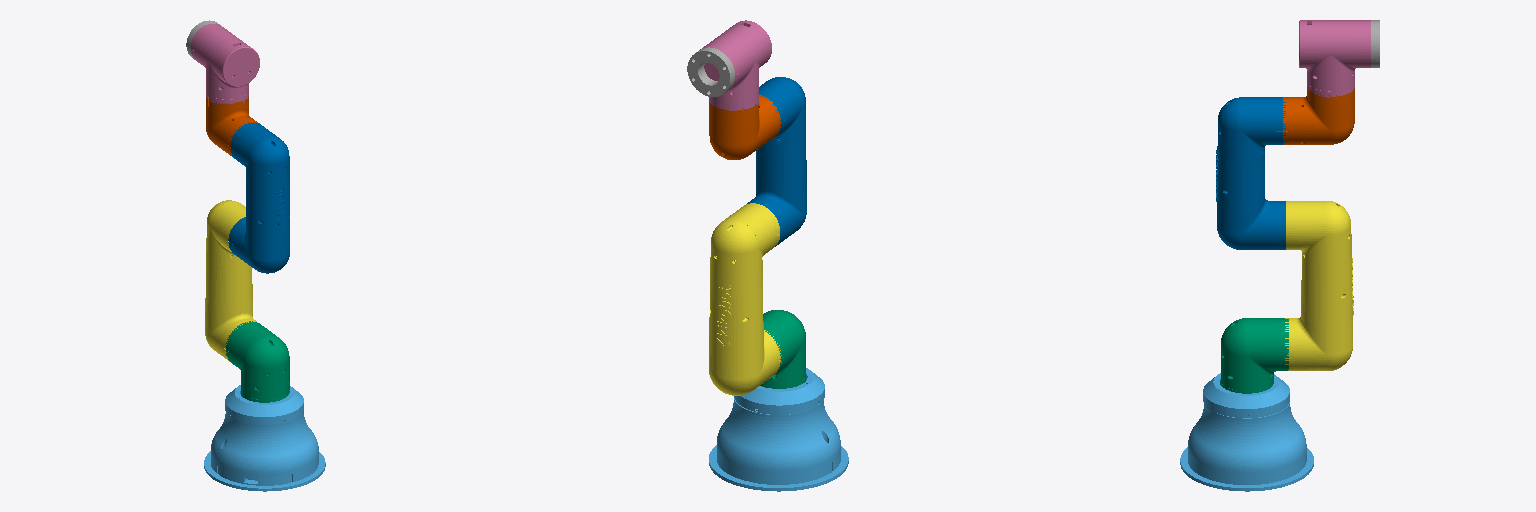
robot.urdf — Kikobot:
<?xml version='1.0' encoding='utf-8'?>
<robot name="Kikobot">
    <link name="world"/>
    
    <joint name="world_joint" type="fixed">
        <parent link="world"/>
        <child link="Base"/>
        <origin xyz="0 0 0" rpy="0 0 0"/>
    </joint>

    <link name="Base">
        <inertial>
            <origin xyz="0.0 0.0 0.0" rpy="0.0 0.0 0.0" />
            <mass value="0.0" />
            <inertia ixx="0.0" iyy="0.0" izz="0.0" ixy="0.0" iyz="0.0" ixz="0.0" />
        </inertial>
        <visual name="Base_visual">
            <origin xyz="0.0 0.0 0.0" rpy="1.5707963267948966 0.0 0.0" />
            <geometry>
                <mesh filename="package://arm_description/urdf/meshes/Base.stl" scale="0.001 0.001 0.001" />
            </geometry>
        </visual>
        <collision name="Base_collision">
            <origin xyz="0.0 0.0 0.0" rpy="1.5707963267948966 0.0 0.0" />
            <geometry>
                <mesh filename="package://arm_description/urdf/meshes/Base.stl" scale="0.001 0.001 0.001" />
            </geometry>
        </collision>
    </link>
    <link name="Arm-1">
        <inertial>
            <origin xyz="-3.6304707242452993e-07 0.010665014372753847 0.040245339023033594" rpy="0.0 -0.0 0.0" />
            <mass value="1.0687641914182047" />
            <inertia ixx="0.0006704983115528758" iyy="0.0006302195772532951" izz="0.00047579424085602586" ixy="-1.4787025792949149e-08" iyz="-8.8277299021493e-05" ixz="8.532466355455287e-10" />
        </inertial>
        <visual name="Arm-1_visual">
            <origin xyz="-2.8416335229319856e-10 -2.2237225545673756e-09 -0.08525000477588429" rpy="1.5707963267948957 -3.633789175993528e-17 -1.5707963267948968" />
            <geometry>
                <mesh filename="package://arm_description/urdf/meshes/Arm-1.stl" scale="0.001 0.001 0.001" />
            </geometry>
        </visual>
        <collision name="Arm-1_collision">
            <origin xyz="-2.8416335229319856e-10 -2.2237225545673756e-09 -0.08525000477588429" rpy="1.5707963267948957 -3.633789175993528e-17 -1.5707963267948968" />
            <geometry>
                <mesh filename="package://arm_description/urdf/meshes/Arm-1.stl" scale="0.001 0.001 0.001" />
            </geometry>
        </collision>
    </link>
    <link name="Arm-2">
        <inertial>
            <origin xyz="-0.027291010656999373 -0.06388820650531735 -1.641718291026939e-06" rpy="-8.273537535917836e-95 -0.0 0.0" />
            <mass value="2.5174323442199595" />
            <inertia ixx="0.00827768866501688" iyy="0.0010318713526725736" izz="0.008358676284779695" ixy="2.0057600796929975e-06" iyz="-3.228897552142503e-08" ixz="-1.5244081456523742e-07" />
        </inertial>
        <visual name="Arm-2_visual">
            <origin xyz="0.006000002223722634 4.77588471881063e-09 -2.841633539585331e-10" rpy="-3.141592653589793 1.5707963267948957 0" />
            <geometry>
                <mesh filename="package://arm_description/urdf/meshes/Arm-2.stl" scale="0.001 0.001 0.001" />
            </geometry>
        </visual>
        <collision name="Arm-2_collision">
            <origin xyz="0.006000002223722634 4.77588471881063e-09 -2.841633539585331e-10" rpy="-3.141592653589793 1.5707963267948957 0" />
            <geometry>
                <mesh filename="package://arm_description/urdf/meshes/Arm-2.stl" scale="0.001 0.001 0.001" />
            </geometry>
        </collision>
    </link>
    <link name="Arm-3">
        <inertial>
            <origin xyz="1.8543469611724262e-05 -0.057005310441065514 -0.03247369693935606" rpy="0.0 -0.0 0.0" />
            <mass value="2.151814339999089" />
            <inertia ixx="0.005888540515035262" iyy="0.0008708559635928294" izz="0.0057263162332367445" ixy="-6.593336986642092e-07" iyz="-4.838011570502867e-06" ixz="3.4690652990595286e-07" />
        </inertial>
        <visual name="Arm-3_visual">
            <origin xyz="-2.8416321629087804e-10 4.77588471881063e-09 -2.22372277924876e-09" rpy="-3.1415926535897913 9.940834058912084e-17 1.1696762940351957e-15" />
            <geometry>
                <mesh filename="package://arm_description/urdf/meshes/Arm-3.stl" scale="0.001 0.001 0.001" />
            </geometry>
        </visual>
        <collision name="Arm-3_collision">
            <origin xyz="-2.8416321629087804e-10 4.77588471881063e-09 -2.22372277924876e-09" rpy="-3.1415926535897913 9.940834058912084e-17 1.1696762940351957e-15" />
            <geometry>
                <mesh filename="package://arm_description/urdf/meshes/Arm-3.stl" scale="0.001 0.001 0.001" />
            </geometry>
        </collision>
    </link>
    <link name="Arm-4">
        <inertial>
            <origin xyz="-8.052563208113539e-09 -0.011556756628656828 0.03920598399088505" rpy="0.0 -0.0 1.8991135491519597e-65" />
            <mass value="0.8426528791869017" />
            <inertia ixx="0.00048347311744847965" iyy="0.00043703135637857254" izz="0.0003223678317791079" ixy="5.704951159916927e-12" iyz="6.865614772375711e-05" ixz="2.2478942401330405e-10" />
        </inertial>
        <visual name="Arm-4_visual">
            <origin xyz="-2.841630741823309e-10 4.77588471881063e-09 -0.08820000222372298" rpy="1.5707963267948968 8.582316144306066e-18 1.5707963267948977" />
            <geometry>
                <mesh filename="package://arm_description/urdf/meshes/Arm-4.stl" scale="0.001 0.001 0.001" />
            </geometry>
        </visual>
        <collision name="Arm-4_collision">
            <origin xyz="-2.841630741823309e-10 4.77588471881063e-09 -0.08820000222372298" rpy="1.5707963267948968 8.582316144306066e-18 1.5707963267948977" />
            <geometry>
                <mesh filename="package://arm_description/urdf/meshes/Arm-4.stl" scale="0.001 0.001 0.001" />
            </geometry>
        </collision>
    </link>
    <link name="Arm-5">
        <inertial>
            <origin xyz="-0.008913001864035071 0.03992149604931242 -1.6722706487420914e-07" rpy="0.0 -0.0 0.0" />
            <mass value="0.9000824732764201" />
            <inertia ixx="0.00047618595149007126" iyy="0.00043166919952895236" izz="0.0005977314701192393" ixy="4.46145660282643e-05" iyz="4.9214216731822275e-09" ixz="4.844480959961849e-09" />
        </inertial>
        <visual name="Arm-5_visual">
            <origin xyz="2.2237231434019124e-09 -0.08820000477588473 2.841631274730361e-10" rpy="-1.1084439540778281e-15 -8.665525745064211e-18 1.117026270222134e-15" />
            <geometry>
                <mesh filename="package://arm_description/urdf/meshes/Arm-5.stl" scale="0.001 0.001 0.001" />
            </geometry>
        </visual>
        <collision name="Arm-5_collision">
            <origin xyz="2.2237231434019124e-09 -0.08820000477588473 2.841631274730361e-10" rpy="-1.1084439540778281e-15 -8.665525745064211e-18 1.117026270222134e-15" />
            <geometry>
                <mesh filename="package://arm_description/urdf/meshes/Arm-5.stl" scale="0.001 0.001 0.001" />
            </geometry>
        </collision>
    </link>
    <link name="End-Coupler-v1">
        <inertial>
            <origin xyz="-0.003390537594555969 -4.775884789864904e-09 2.841748064641436e-10" rpy="0.0 -0.0 0.0" />
            <mass value="0.1162770105689689" />
            <inertia ixx="4.070444495868353e-05" iyy="2.169606026503892e-05" izz="2.1696060266696016e-05" ixy="-1.734723475976807e-18" iyz="2.0328790734103208e-20" ixz="-2.591920818598159e-19" />
        </inertial>
        <visual name="End-Coupler-v1_visual">
            <origin xyz="-0.00919999777627698 -4.775884789864904e-09 2.8416296760092055e-10" rpy="-1.1084439540778271e-15 -8.665525745064204e-18 1.117026270222134e-15" />
            <geometry>
                <mesh filename="package://arm_description/urdf/meshes/End-Coupler-v1.stl" scale="0.001 0.001 0.001" />
            </geometry>
        </visual>
        <collision name="End-Coupler-v1_collision">
            <origin xyz="-0.00919999777627698 -4.775884789864904e-09 2.8416296760092055e-10" rpy="-1.1084439540778271e-15 -8.665525745064204e-18 1.117026270222134e-15" />
            <geometry>
                <mesh filename="package://arm_description/urdf/meshes/End-Coupler-v1.stl" scale="0.001 0.001 0.001" />
            </geometry>
        </collision>
    </link>
    <joint name="Base_Revolute-1" type="revolute">
        <origin xyz="0.00065556 0.0 0.08255024" rpy="0.0 0.0 0.0" />
        <parent link="Base" />
        <child link="Arm-1" />
        <axis xyz="0.0 0.0 1.0" />
        <limit lower="-2.879793" upper="2.879793" effort="1000000" velocity="1000000" />
    </joint>
    <joint name="Arm-1_Revolute-2" type="revolute">
        <origin xyz="3.3306690738754695e-18 0.0417 0.049749999999999996" rpy="-1.5707963267948966 -2.775557561562912e-17 -1.5707963267948966" />
        <parent link="Arm-1" />
        <child link="Arm-2" />
        <axis xyz="1.0 8.531573731886488e-33 0.0" />
        <limit lower="-2.181662" upper="2.181662" effort="1000000" velocity="1000000" />
    </joint>
    <joint name="Arm-2_Revolute-3" type="revolute">
        <origin xyz="0.0029999999999999983 -0.133 0.0" rpy="1.9668971100548318e-31 -1.5707963267948966 0" />
        <parent link="Arm-2" />
        <child link="Arm-3" />
        <axis xyz="0.0 0.0 -1.0" />
        <limit lower="-2.443461" upper="2.443461" effort="1000000" velocity="1000000" />
    </joint>
    <joint name="Arm-3_Revolute-4" type="revolute">
        <origin xyz="0.0 -0.11599999999999998 -0.0030000000000000027" rpy="-1.9721522630525295e-31 -1.232595164407831e-32 1.4530830046144773e-33" />
        <parent link="Arm-3" />
        <child link="Arm-4" />
        <axis xyz="1.232595164407831e-32 -1.9721522630525295e-31 1.0" />
        <limit lower="-2.443461" upper="2.443461" effort="1000000" velocity="1000000" />
    </joint>
    <joint name="Arm-4_Revolute-5" type="revolute">
        <origin xyz="0.0 -0.0368 0.04880000000000001" rpy="-3.141592653589793 1.5707963267948966 0" />
        <parent link="Arm-4" />
        <child link="Arm-5" />
        <axis xyz="0.0 1.0 0.0" />
        <limit lower="-2.443461" upper="2.443461" effort="1000000" velocity="1000000" />
    </joint>
    <joint name="Arm-5_Revolute-6" type="revolute">
        <origin xyz="-0.04 0.048800000000000024 0.0" rpy="5.806664411703718e-66 -5.998855812705412e-34 9.67961990252435e-33" />
        <parent link="Arm-5" />
        <child link="End-Coupler-v1" />
        <axis xyz="-1.0 -9.679619902524347e-33 -0.0" />
        <limit lower="-3.054326" upper="3.054326" effort="1000000" velocity="1000000" />
    </joint>
</robot>

--- Render facts (derived) ---
Views: 3 orthographic renders of the robot side by side, from view 1: azimuth 30°, elevation 25°; view 2: azimuth 150°, elevation 25°; view 3: azimuth 270°, elevation 25°.
Model Kikobot with 8 links and 7 joints (6 revolute, 1 fixed), rooted at world, posed all joints at 0.
Visible links, largest first — view 1: Base, Arm-3, Arm-2, Arm-1, Arm-5, Arm-4; view 2: Base, Arm-2, Arm-3, Arm-5, Arm-4, Arm-1, End-Coupler-v1; view 3: Base, Arm-2, Arm-3, Arm-5, Arm-1, Arm-4.
Link boxes in pixels (x1,y1,x2,y2): Base: [204, 385, 325, 491]; Arm-3: [228, 122, 289, 273]; Arm-2: [205, 200, 257, 361]; Arm-1: [226, 321, 289, 402]; Arm-5: [191, 24, 259, 104]; Arm-4: [206, 97, 259, 157]; Base: [709, 368, 848, 491]; Arm-2: [709, 203, 781, 395]; Arm-3: [747, 77, 806, 246]; Arm-5: [700, 20, 771, 110]; Arm-4: [709, 95, 780, 159]; Arm-1: [760, 310, 805, 388]; End-Coupler-v1: [687, 47, 734, 96]; Base: [1180, 373, 1313, 491]; Arm-2: [1285, 201, 1353, 370]; Arm-3: [1216, 97, 1285, 249]; Arm-5: [1299, 20, 1370, 97]; Arm-1: [1220, 318, 1288, 393]; Arm-4: [1283, 87, 1354, 144].
Size in the robot's own frame: 0.135 by 0.2012 by 0.4909 metres.
Meshes: 7 distinct files referenced, 7 mesh visuals loaded (7 binary STL).